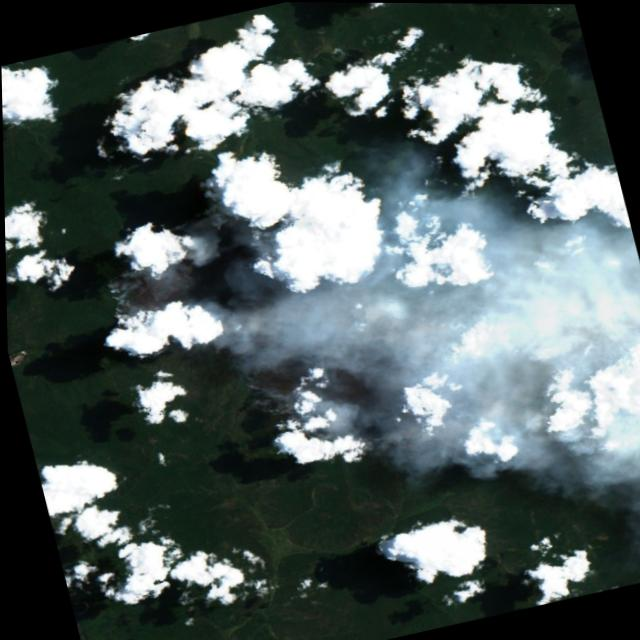fire: (86, 153, 511, 522)
